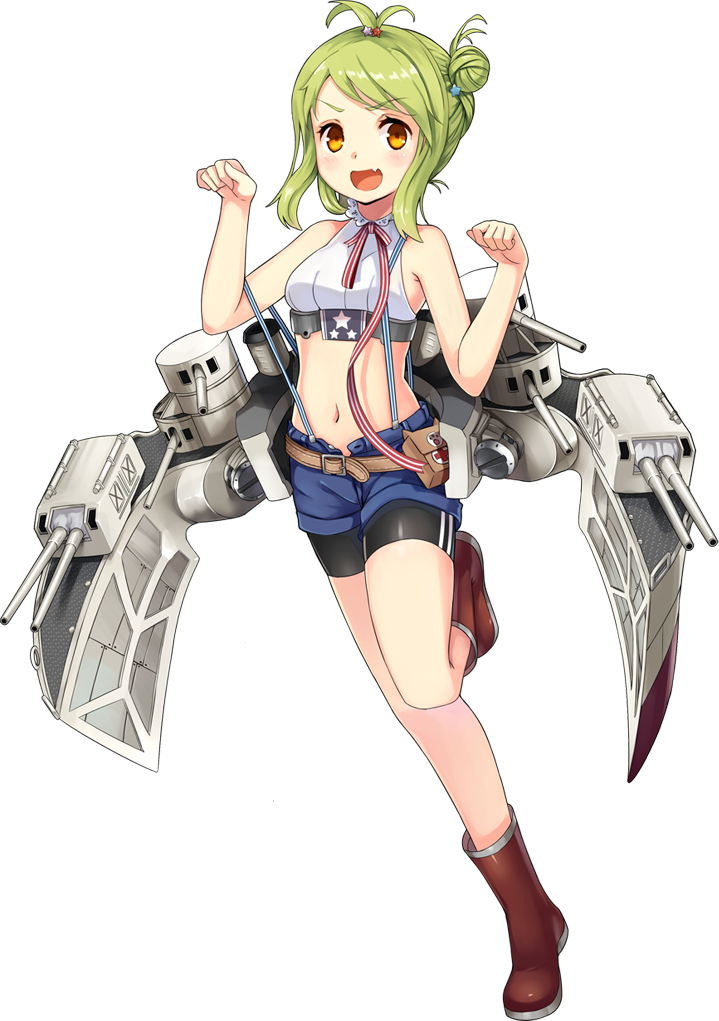person: (156, 18, 576, 797)
